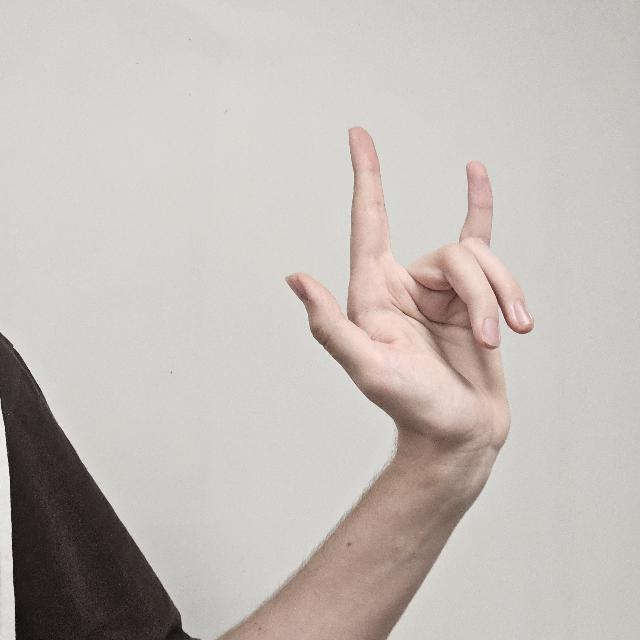Cima: (285, 112, 535, 464)
